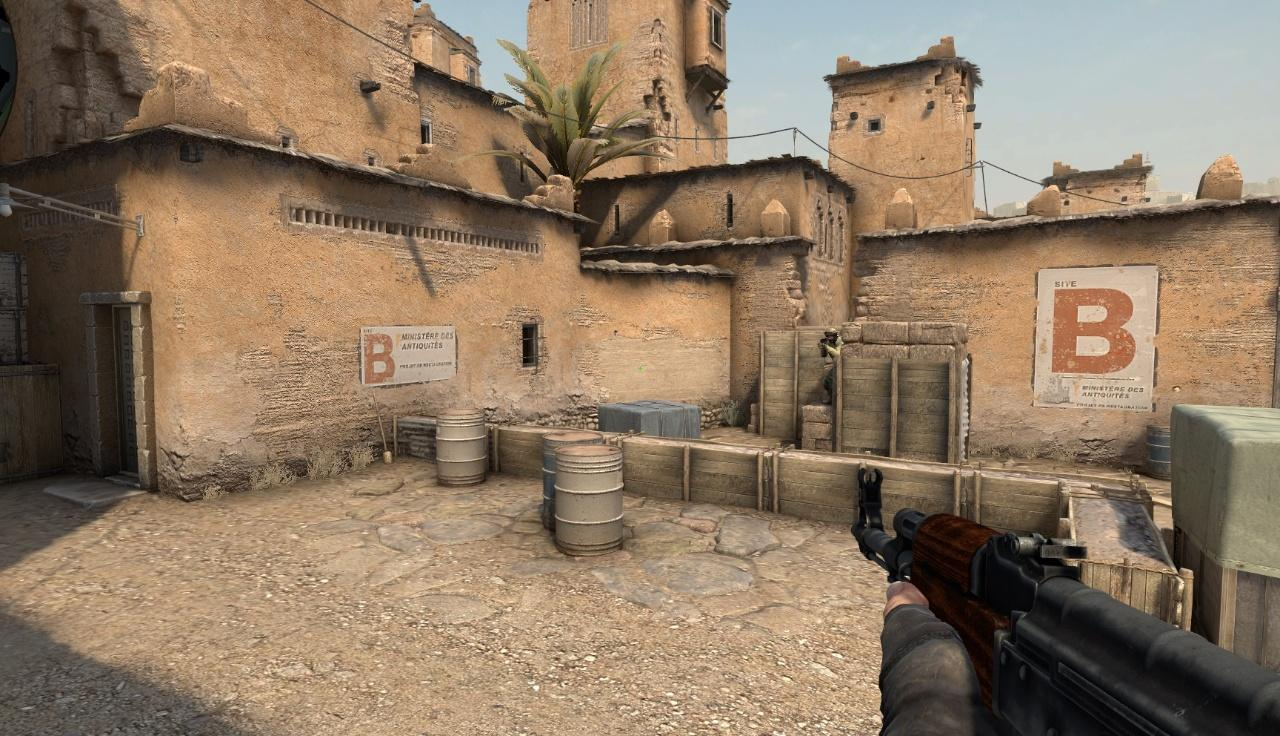ct: (821, 327, 839, 404)
cthead: (824, 328, 837, 343)
rifle: (854, 469, 1280, 736)
